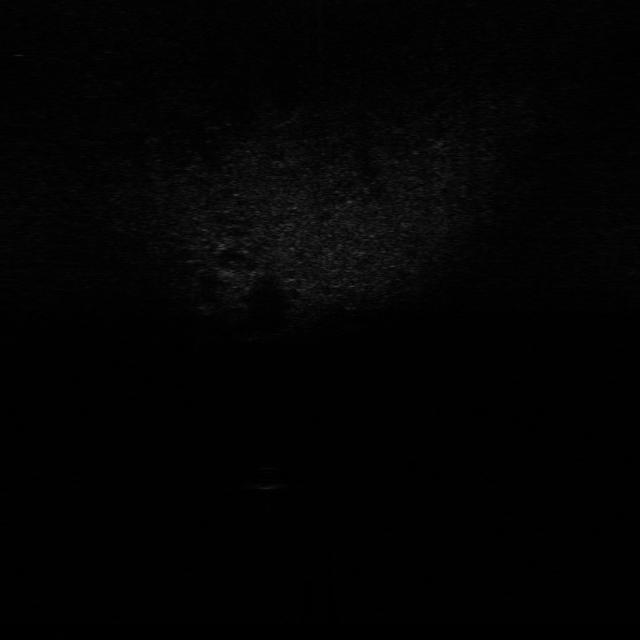ball: (248, 463, 288, 490)
